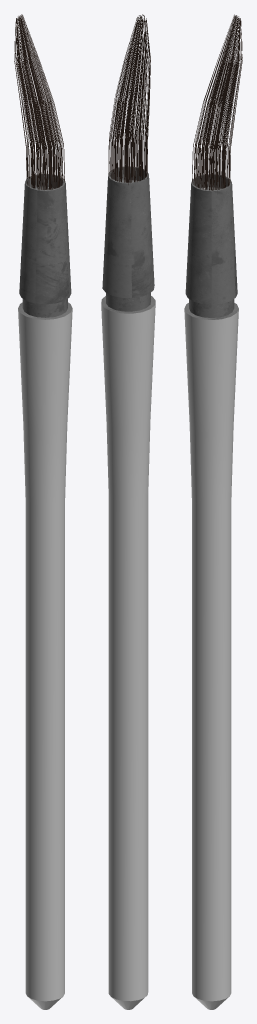
The model's file is Painting Brush.fbx.
3 renders of one model, left to right at view 1: azimuth 90°, elevation 25°; view 2: azimuth 210°, elevation 25°; view 3: azimuth 270°, elevation 25°, orthographic.
Visible parts, largest first — view 1: Mesh; view 2: Mesh; view 3: Mesh.
Part boxes in pixels (box(x1,y1,x2,y2)): Mesh: box(14, 14, 72, 1009); Mesh: box(101, 14, 155, 1009); Mesh: box(184, 14, 242, 1009).
Size of the model in its own units: 2.89 by 58.03 by 3.09.
